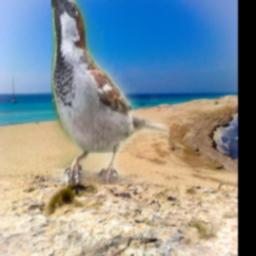Sparrow: (51, 0, 169, 186)
